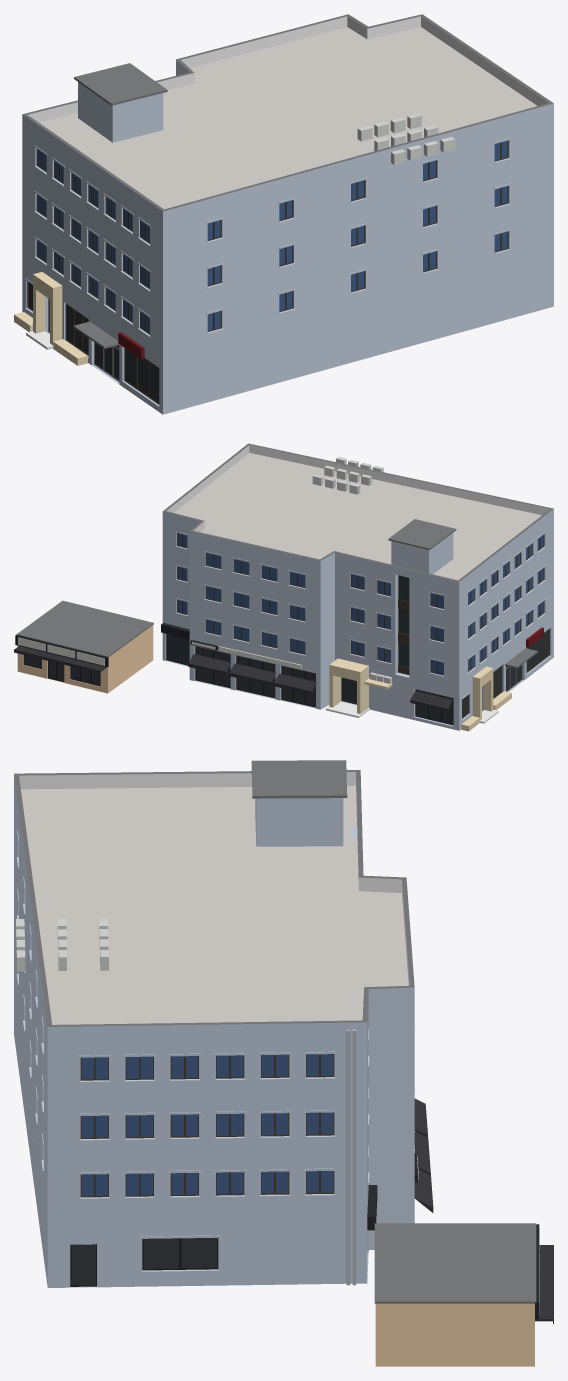
Rendered from customeat110.glb.
The picture shows the model from 3 angles, top to bottom: view 1: azimuth 30°, elevation 25°; view 2: azimuth 150°, elevation 25°; view 3: azimuth 270°, elevation 25°; orthographic projection. The views are drawn at different scales.
Parts seen in each view (by area): view 1: CustomEat110; view 2: CustomEat110; view 3: CustomEat110.
Boxes of the visible parts, x1,y1,x2,y2 form: CustomEat110: [14, 14, 553, 414]; CustomEat110: [14, 443, 553, 731]; CustomEat110: [14, 760, 553, 1366].
Size of the model in its own units: 43.19 by 17.47 by 28.49.
